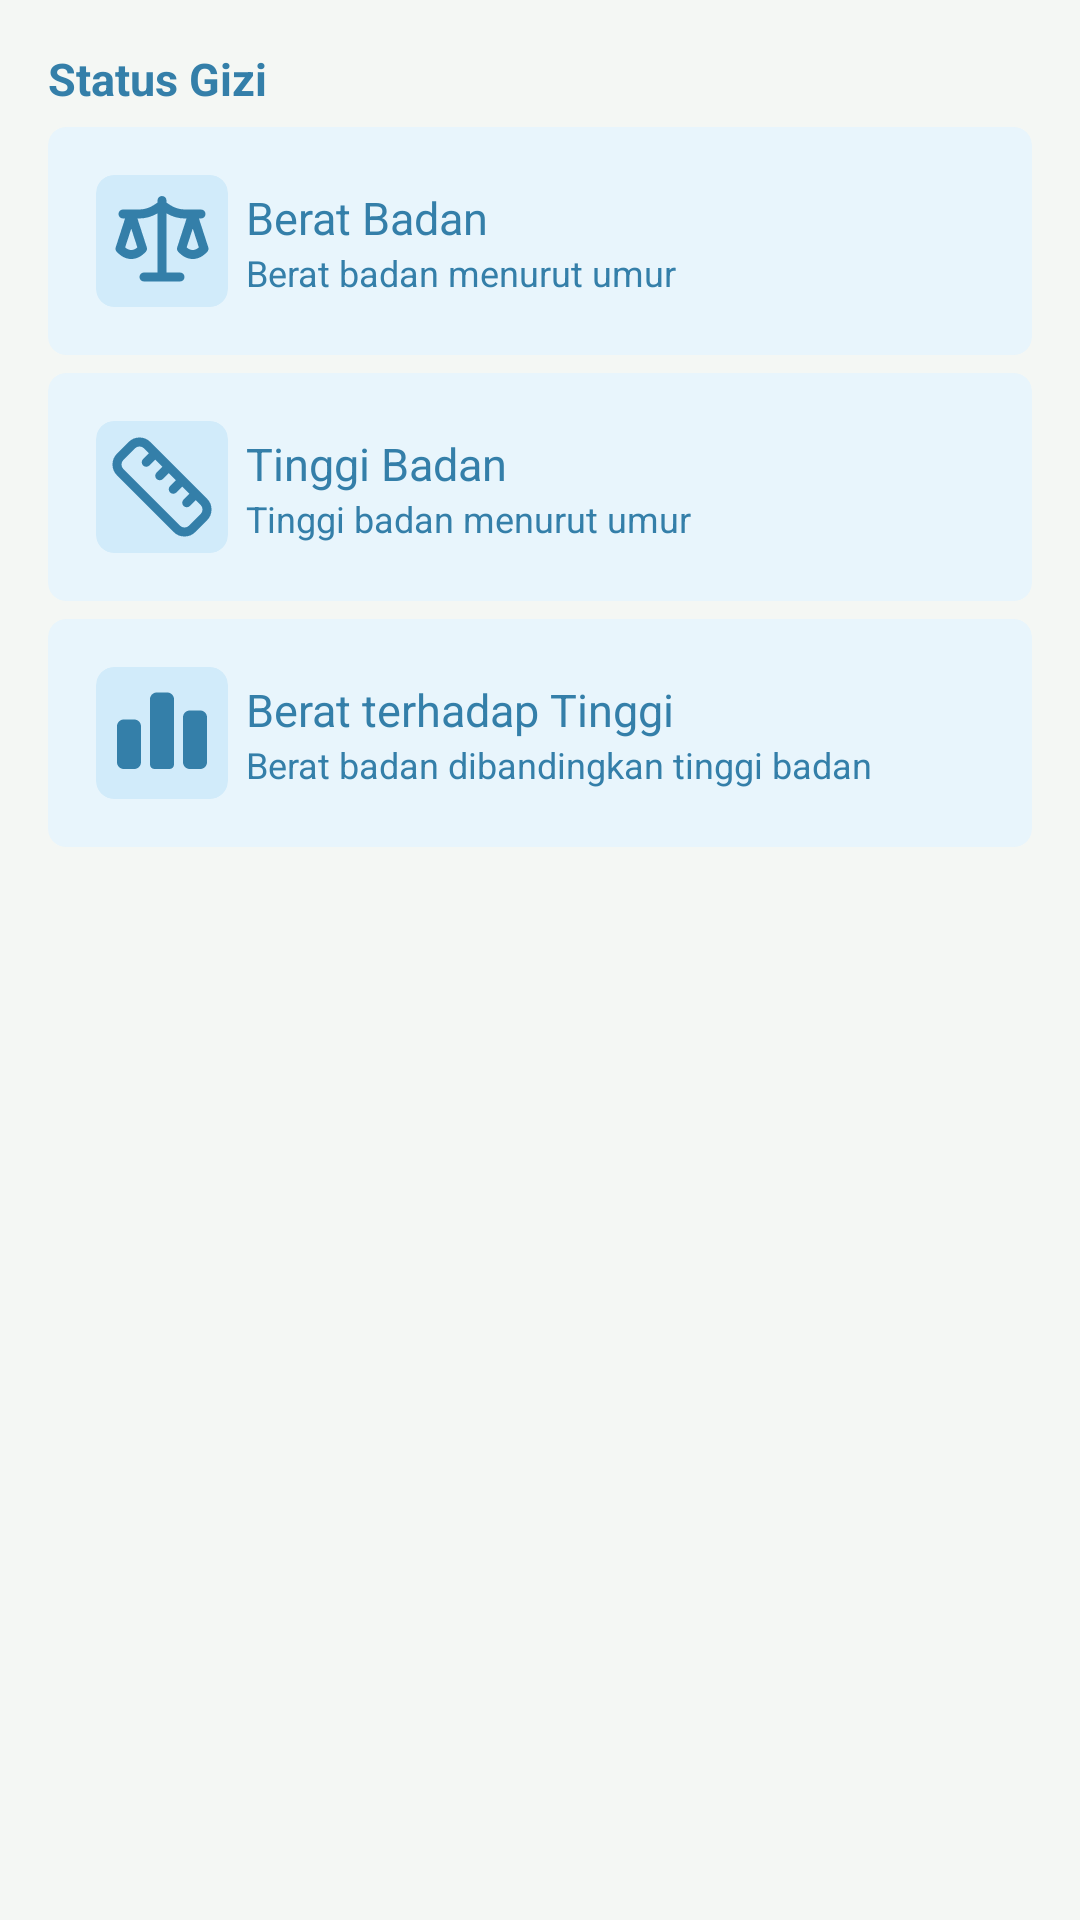

Icons on this 1080×1920 Android screen, each with the point to tap as point (x, y):
growth chart: point (162, 730)
penggaris: point (162, 487)
timbangan: point (162, 239)
